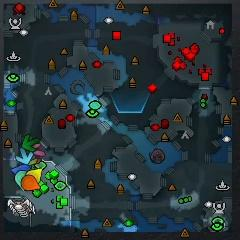p1: (11, 163, 32, 174)
p2: (16, 171, 28, 191)
p4: (26, 168, 42, 184)
p5: (21, 175, 41, 191)
x1: (32, 144, 46, 157)
x2: (28, 159, 37, 167)
x3: (17, 148, 33, 164)
x4: (22, 134, 39, 152)
